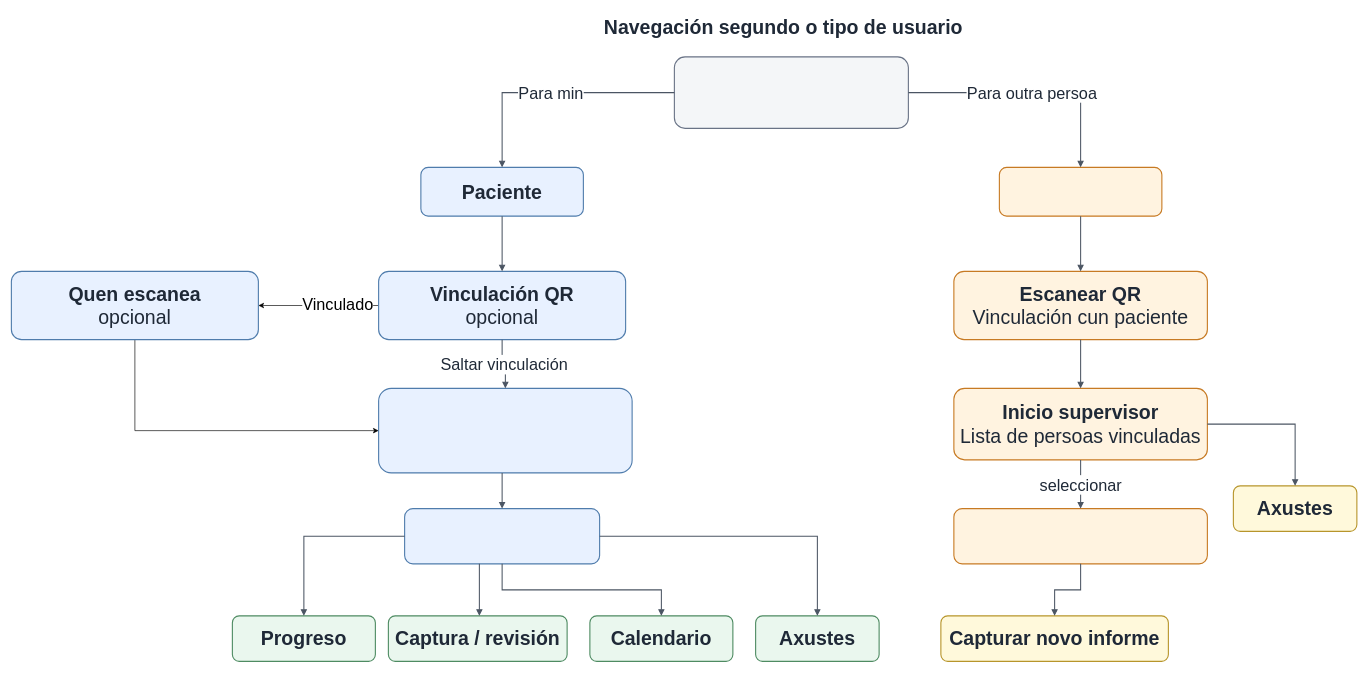
The diagram is 1369 pixels wide and 673 high, and some of its shapes have lost their labels. Here are the shapes that lost their labels. From the top down, the box of each, then its label:
(674, 56, 909, 129): Inicio Selección do tipo de usuario
(999, 167, 1162, 216): Supervisor
(378, 388, 632, 473): Configuración adicional Hora habitual da toma
(404, 508, 600, 564): Inicio paciente
(953, 508, 1208, 564): Detalle da persoa supervisada
